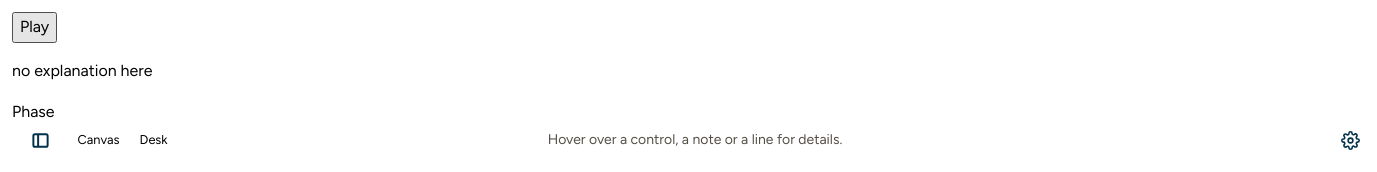
Test: workbench status bar › shows a help label's text in the bar and leaves no pop-up tooltip when the bar is there
This screenshot has width=1377, height=172.
Hover over the text "Phase" at x=33, y=111, box [12,102,54,121]
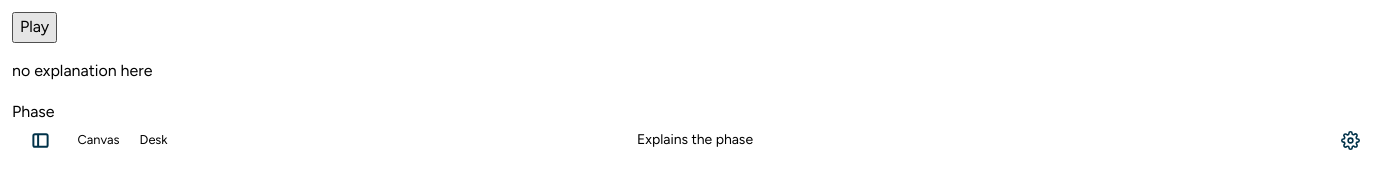
Check: the text "Explains the phase" is shown once, box [637,131,753,148]
Check: the text "Explains the phase" is shown, box [637,131,753,148]
